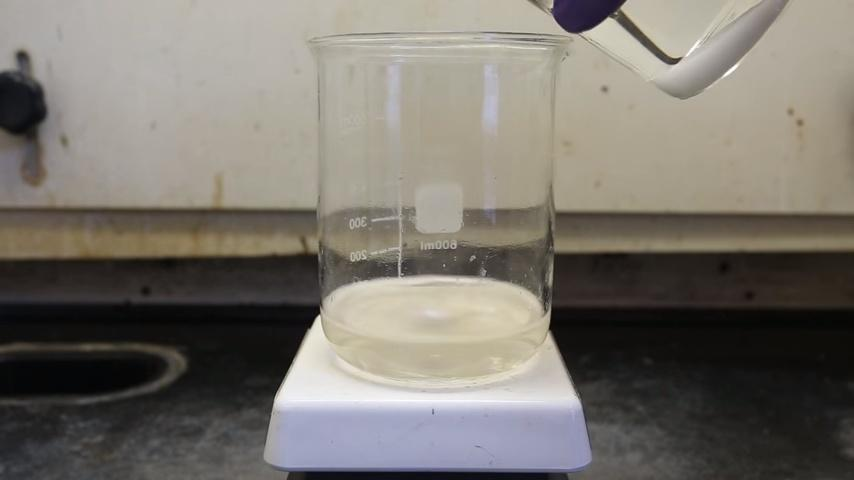Beaker: (292, 26, 574, 384)
